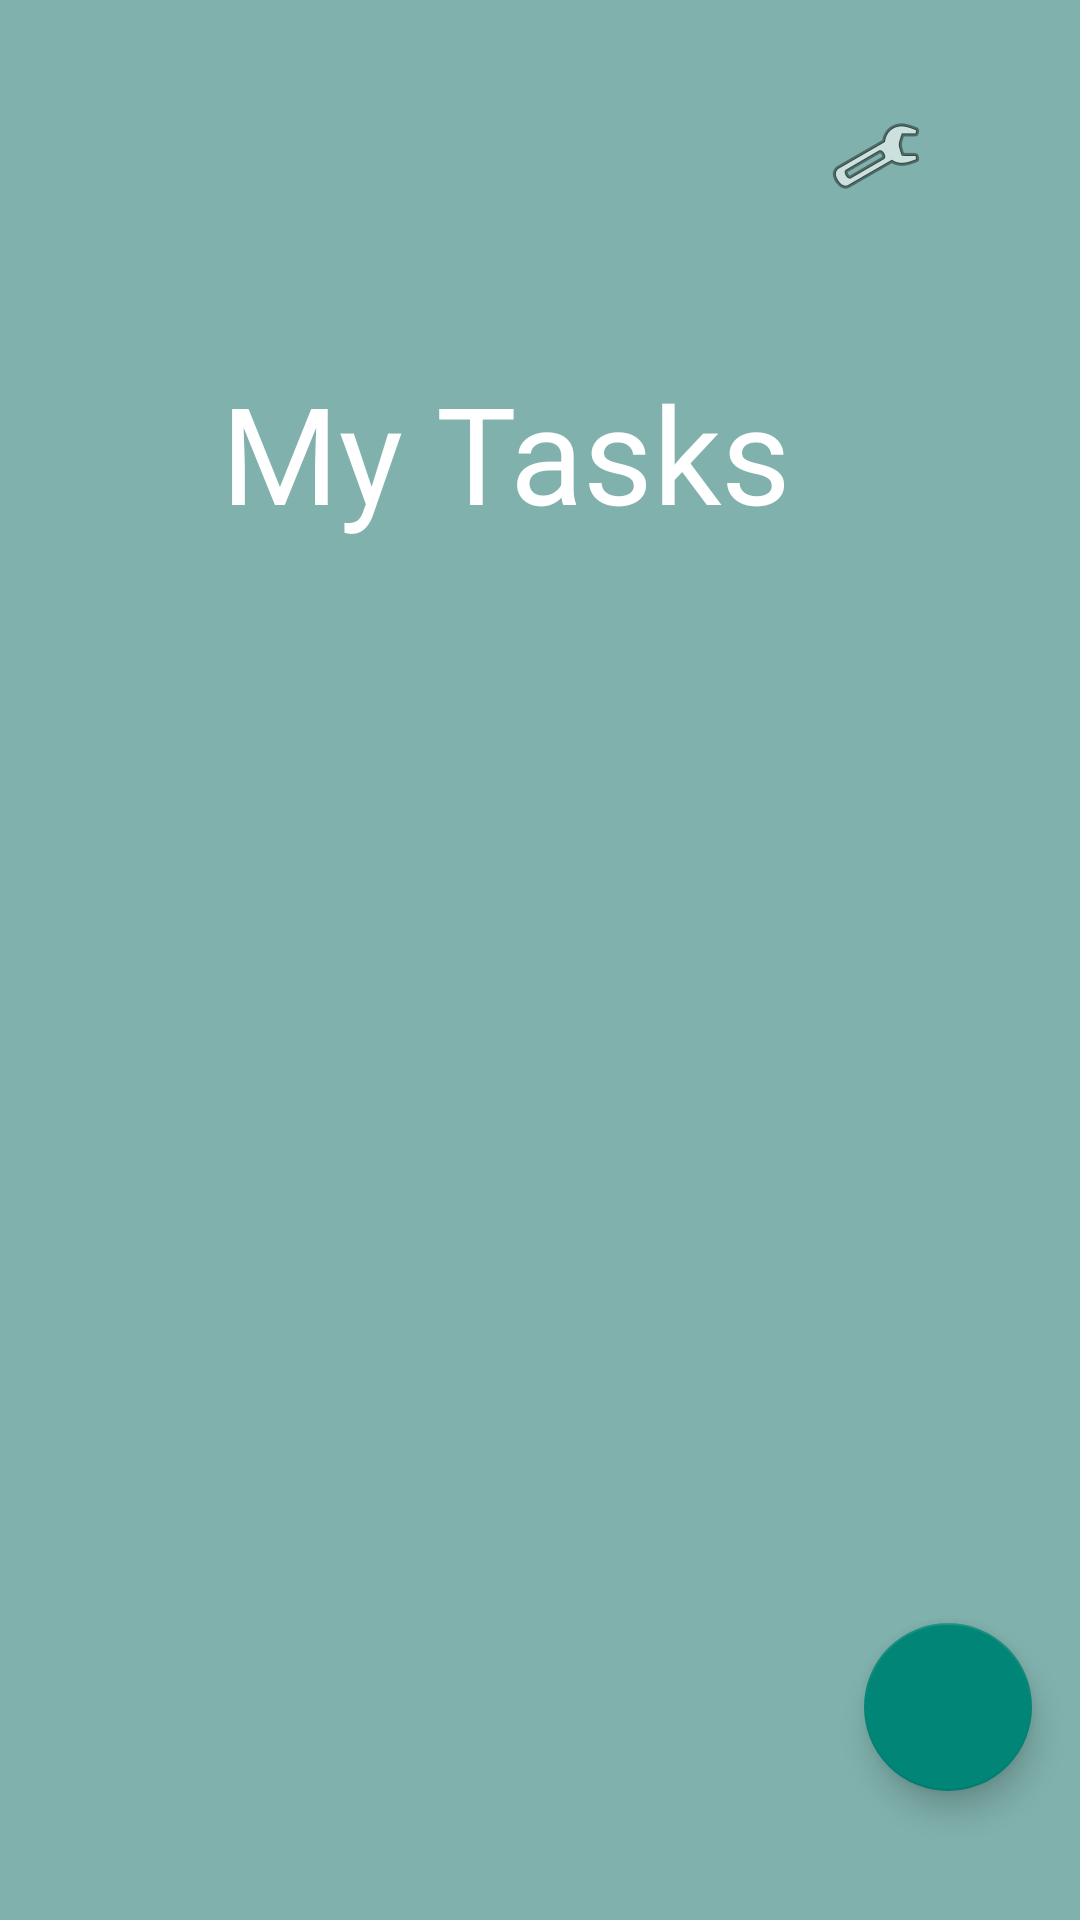

Icon bounding boxes for this 1080w x 1920h phone screenshot, format (x1=x1, y1=y1, x2=x2, y2=y2):
manage: (x1=833, y1=123, x2=919, y2=189)
